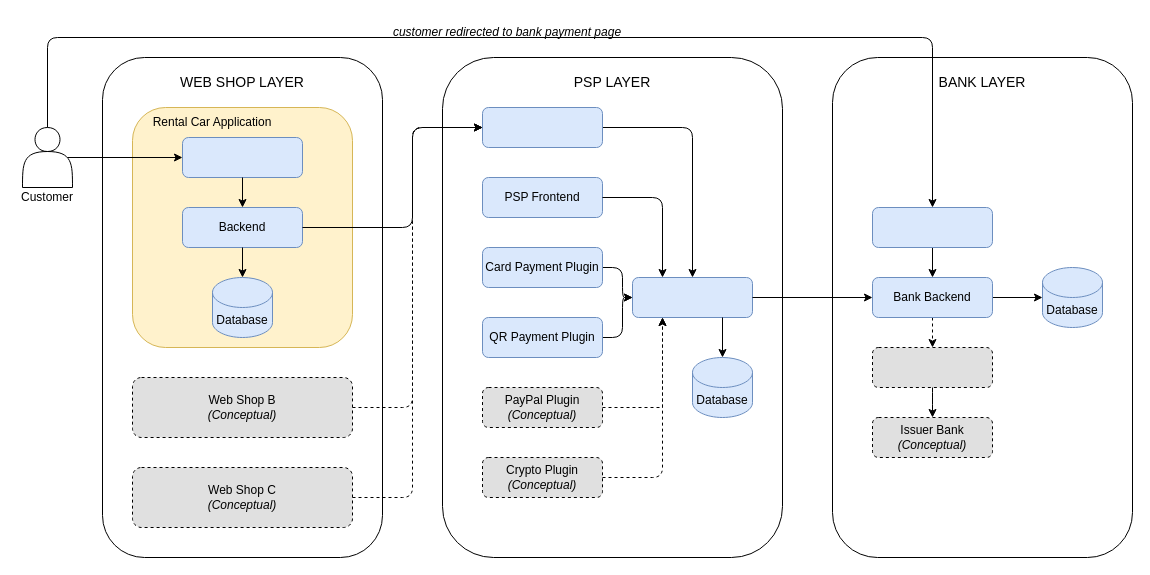
Image size: 1150x575. Some labels were removed from this diagram. Each missing label, with the centre of its shape:
API Gateway: the point at 542,127
Bank Payment Frontend: the point at 932,227
Frontend: the point at 242,157
PCC (Conceptual): the point at 932,367
PSP Core: the point at 692,297
